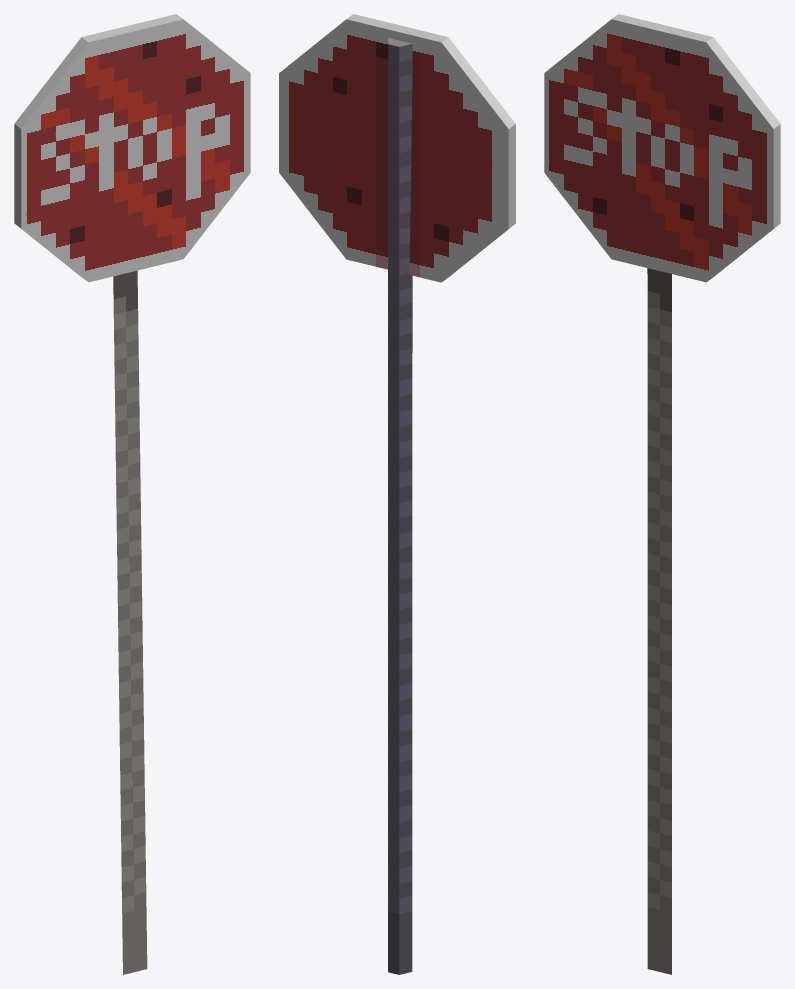
The model's file is stop_sign.gltf.
3 views of the same model, side by side, from view 1: azimuth 30°, elevation 25°; view 2: azimuth 150°, elevation 25°; view 3: azimuth 330°, elevation 25° (orthographic).
Parts seen in each view (by area): view 1: Circle; view 2: Circle; view 3: Circle.
Part boxes in pixels (<box>): Circle: <box>14,14,250,974</box>; Circle: <box>279,14,515,974</box>; Circle: <box>544,14,780,974</box>.
Bounding box in the file's own units: 0.9883 × 3.88 × 0.1031.
1 material, 1 textured.
